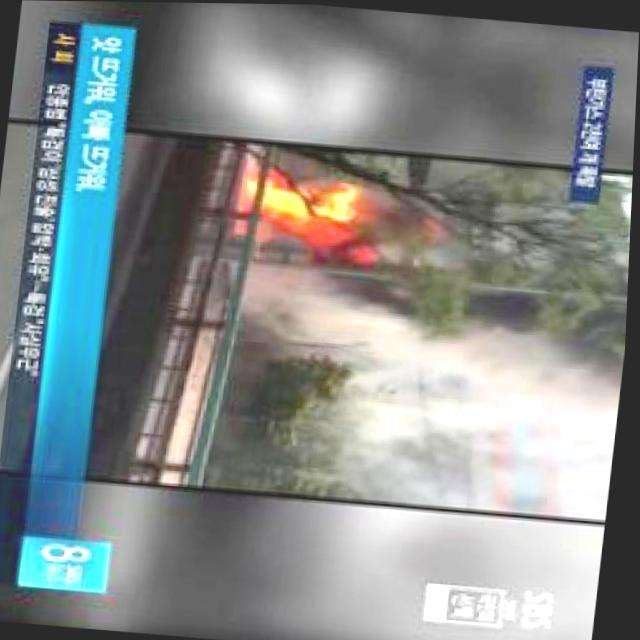Fire: (227, 160, 435, 275), (230, 160, 349, 241)
Smoke: (228, 274, 631, 512)
